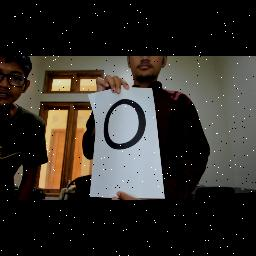o: (93, 92, 153, 152)
